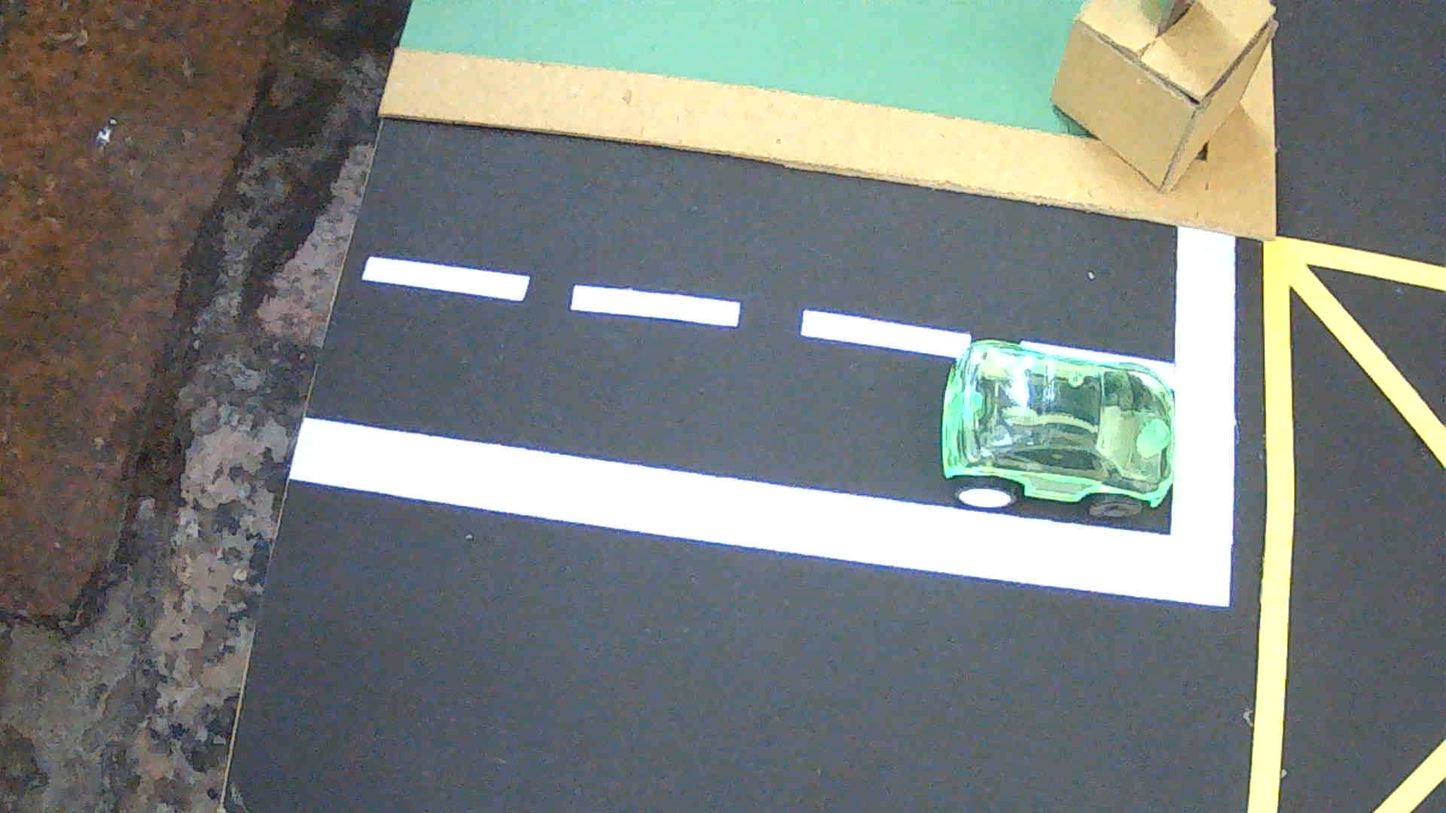Mobil hijau: (941, 340, 1176, 517)
